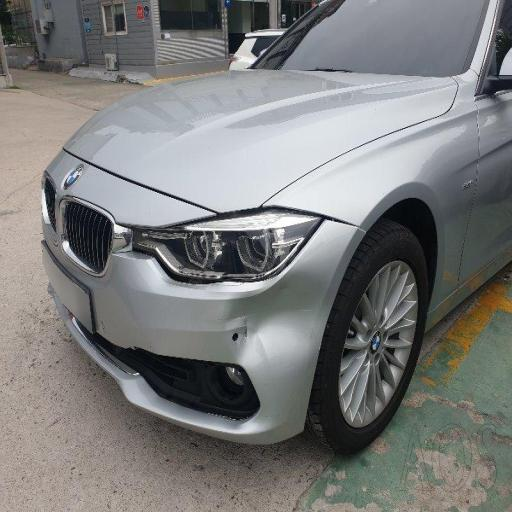dent: (176, 265, 352, 417)
